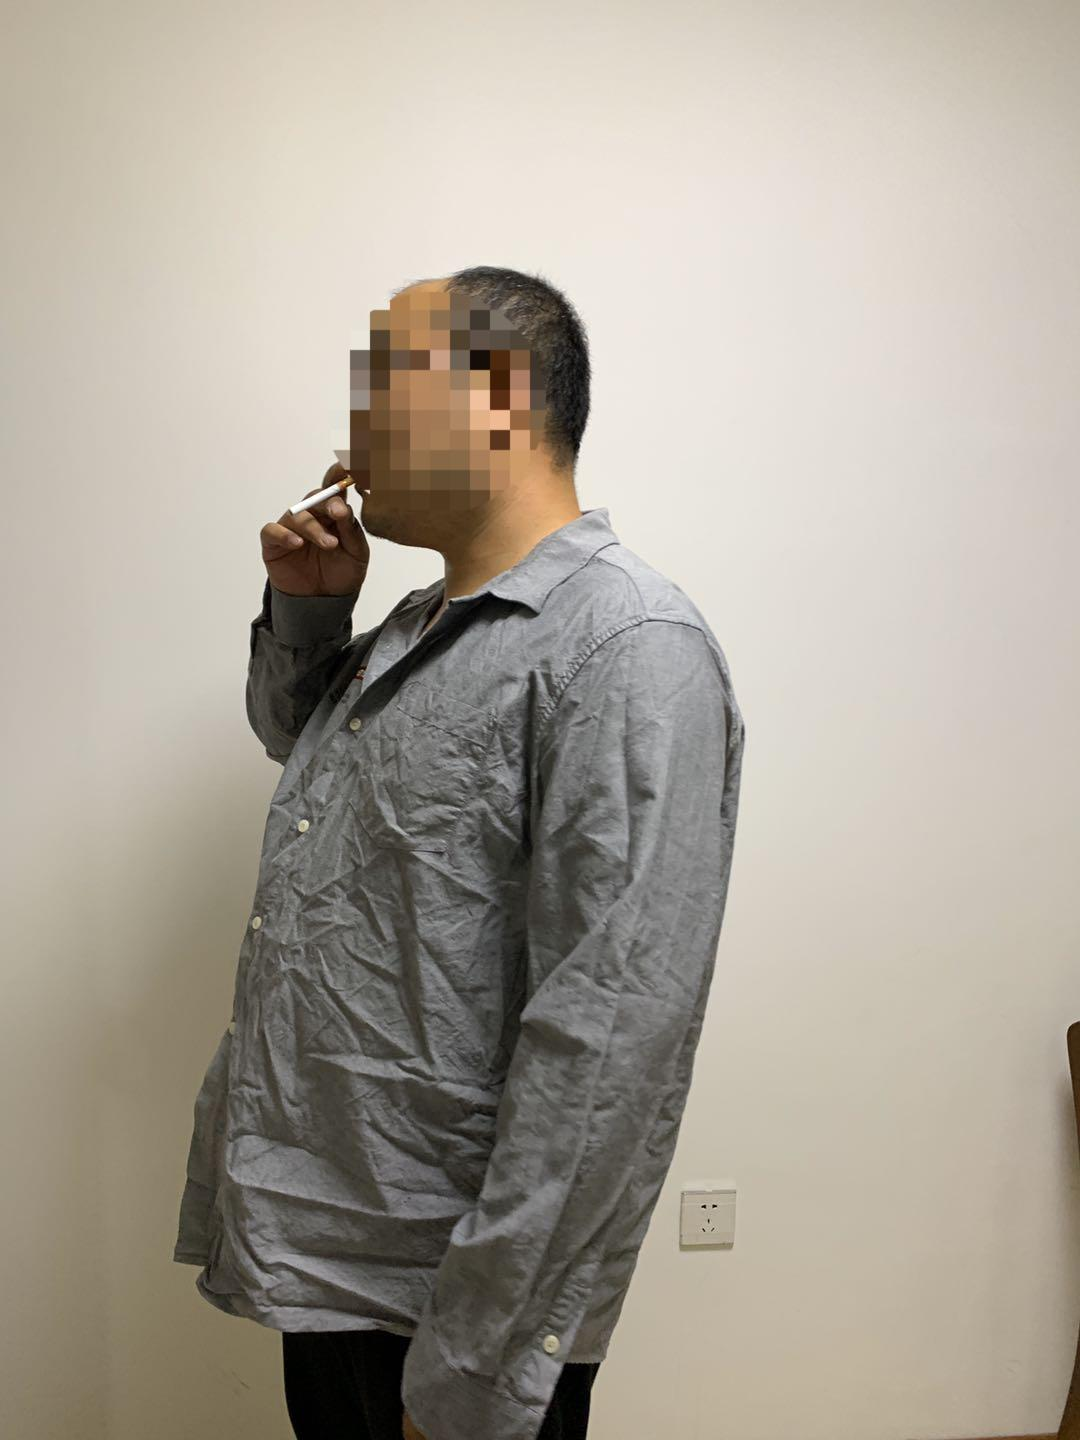smoke: (282, 478, 361, 524)
